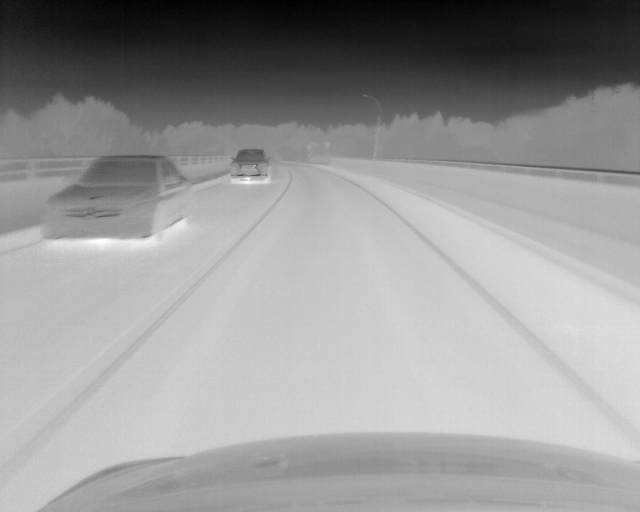car: (42, 154, 196, 245), (227, 148, 273, 184)
